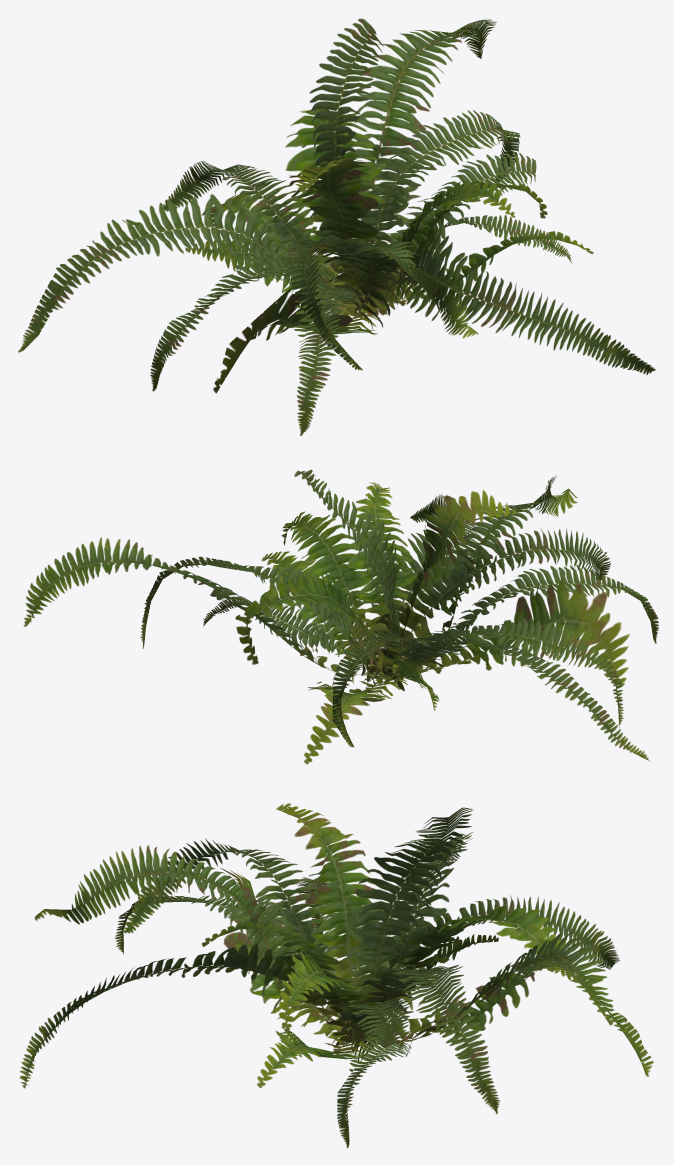
The model's file is fern.glb.
The picture shows the model from 3 angles, top to bottom: view 1: azimuth 30°, elevation 25°; view 2: azimuth 150°, elevation 25°; view 3: azimuth 270°, elevation 25°; orthographic projection. The views are drawn at different scales.
Parts seen in each view (by area): view 1: fern_02_b.001; view 2: fern_02_b.001; view 3: fern_02_b.001.
Part boxes in pixels (x1,y1,x2,y2): fern_02_b.001: (18, 18, 655, 435); fern_02_b.001: (23, 469, 658, 764); fern_02_b.001: (19, 803, 653, 1148).
Size of the model in its own units: 0.9897 by 0.4277 by 0.8937.
Materials: 1 (1 with a texture image).
